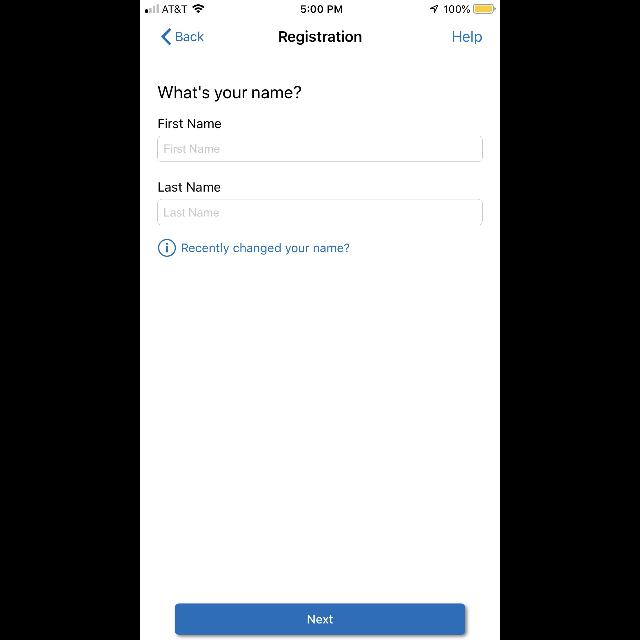icon: (158, 239, 176, 257), (161, 28, 171, 46)
input: (158, 199, 482, 225), (158, 136, 482, 162)
text: (158, 86, 302, 102), (182, 243, 350, 254), (279, 31, 361, 45), (159, 119, 221, 129), (159, 182, 221, 192), (164, 145, 220, 153), (165, 209, 219, 217), (452, 31, 482, 45), (176, 32, 204, 42)
textbutton: (175, 604, 465, 634)
uppertaskbar: (140, 0, 500, 14)
